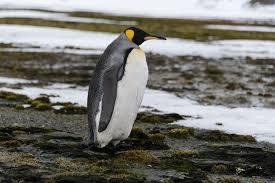king: (83, 17, 170, 160)
